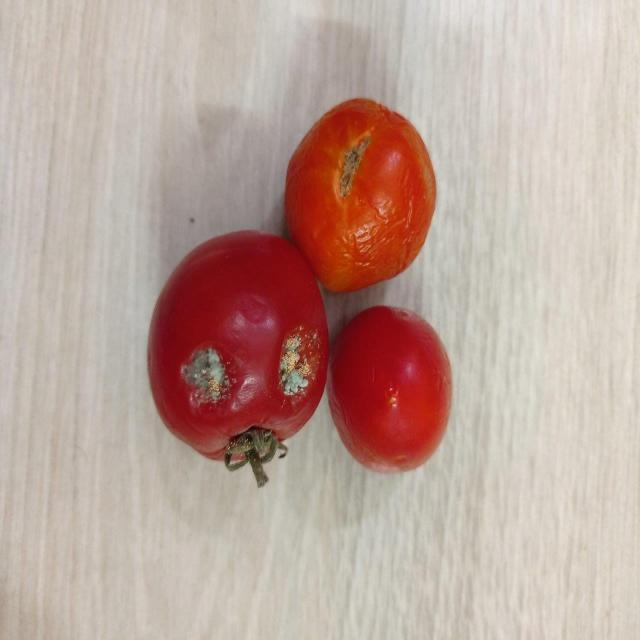Rotten: (145, 225, 331, 465)
overripe: (285, 99, 439, 294)
